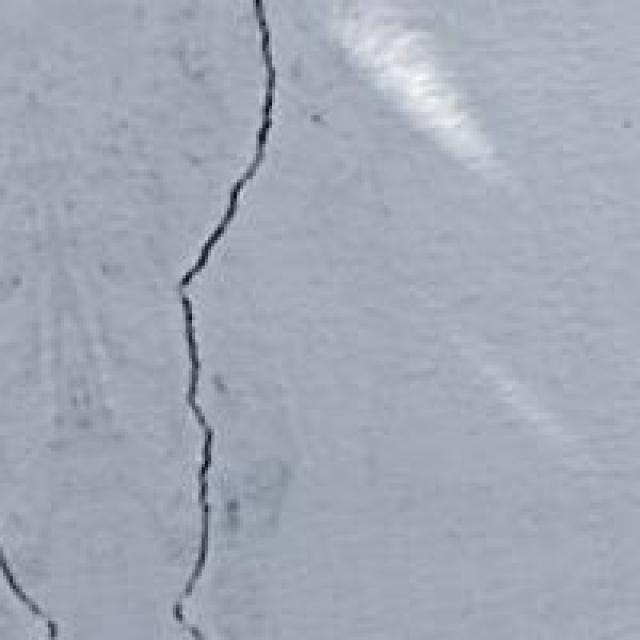Crack: (96, 0, 362, 637)
